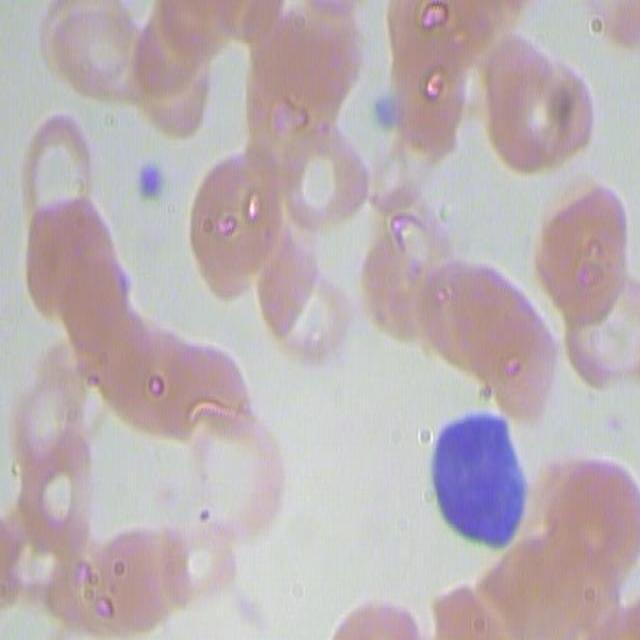RBC: (22, 230, 250, 349), (36, 0, 222, 123), (182, 0, 336, 143), (62, 343, 288, 438), (439, 0, 580, 144), (428, 258, 562, 405), (9, 445, 117, 623), (404, 532, 578, 640), (554, 166, 631, 400), (542, 458, 635, 640), (378, 185, 455, 403), (124, 508, 254, 630), (194, 147, 294, 296), (374, 0, 470, 151), (22, 125, 114, 252), (293, 0, 380, 116), (287, 109, 359, 234), (318, 561, 430, 640)
WBC: (414, 416, 555, 561)
platelets: (136, 160, 173, 202)
